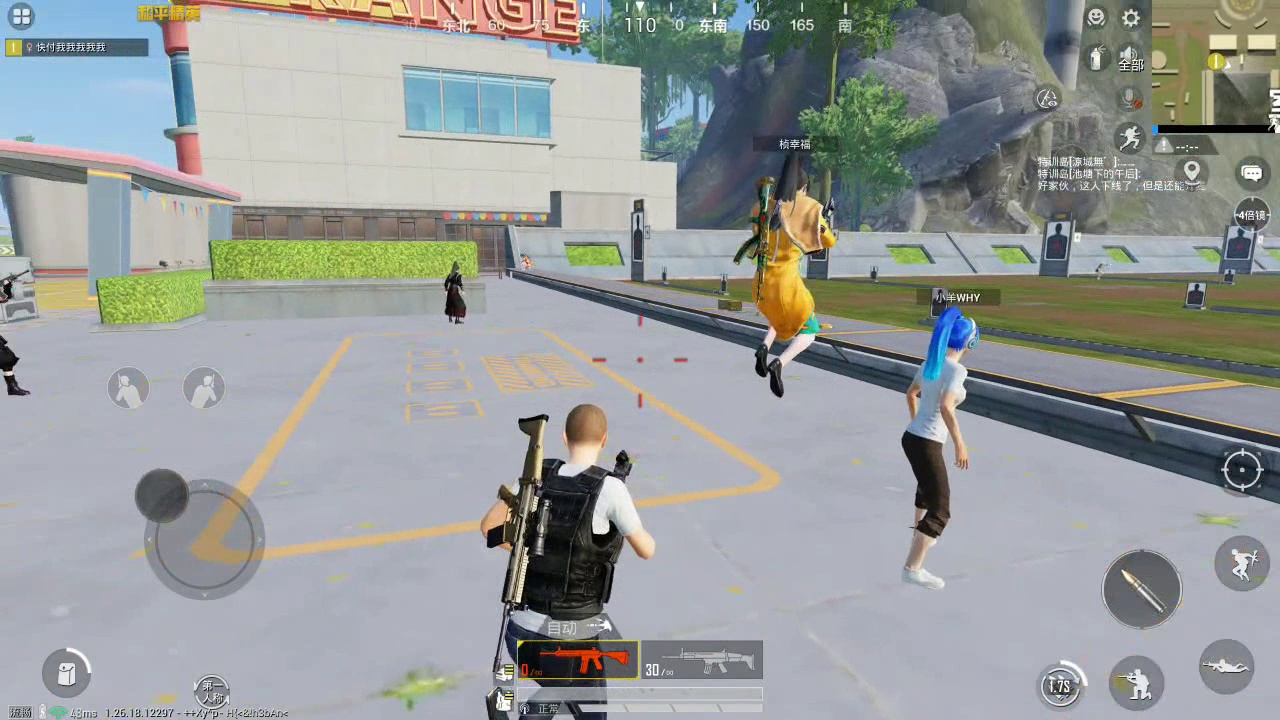enemy: (902, 303, 982, 593), (746, 149, 838, 395), (1, 273, 35, 400), (441, 258, 470, 322), (518, 249, 534, 273)
